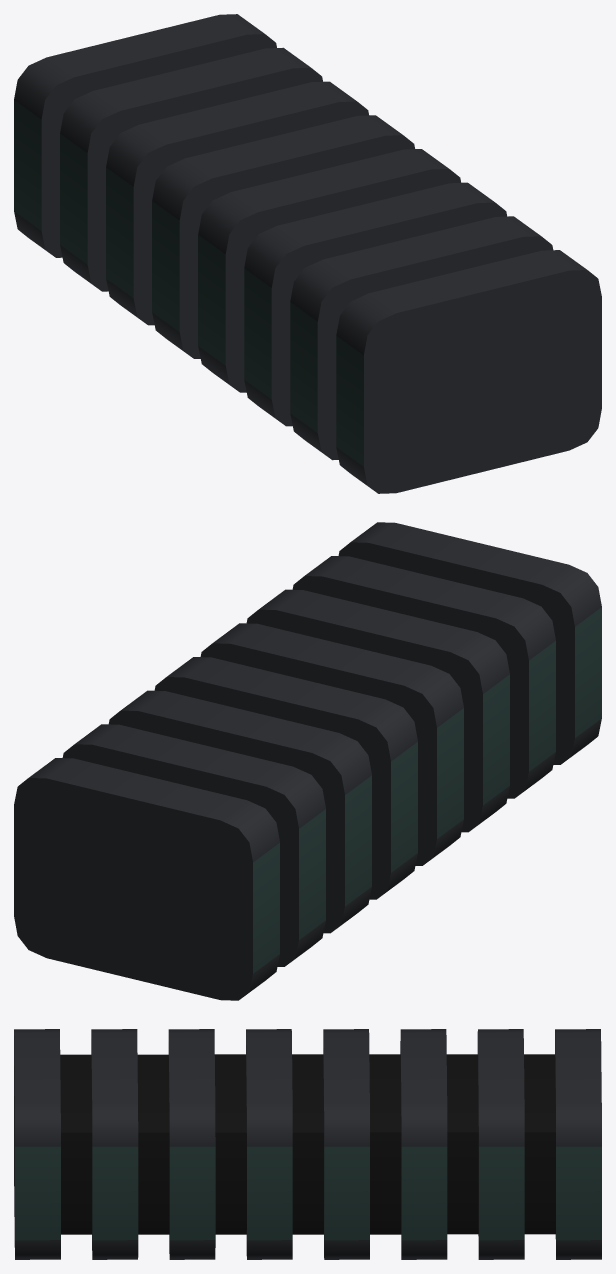
Rendered from 2 trucs sur le mur.FBX.
3 renders of one model, top to bottom at view 1: azimuth 30°, elevation 25°; view 2: azimuth 150°, elevation 25°; view 3: azimuth 270°, elevation 25°, orthographic. The views are drawn at different scales.
Parts seen in each view (by area): view 1: Object020; view 2: Object020; view 3: Object020, Object012.
Boxes of the visible parts, bbox=[...] form: Object020: bbox=[14, 14, 601, 493]; Object020: bbox=[14, 522, 601, 1000]; Object020: bbox=[14, 1029, 601, 1259]; Object012: bbox=[60, 1054, 555, 1234].
Size of the model in its own units: 390 by 281 by 991.
